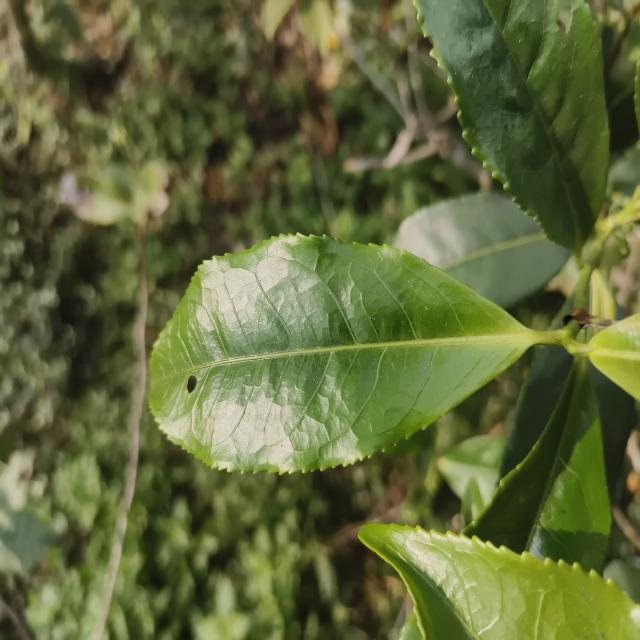Leaf: (150, 235, 546, 472), (416, 0, 609, 250), (359, 523, 640, 640), (463, 359, 611, 571), (393, 192, 569, 308), (436, 435, 505, 514), (585, 314, 640, 401)
